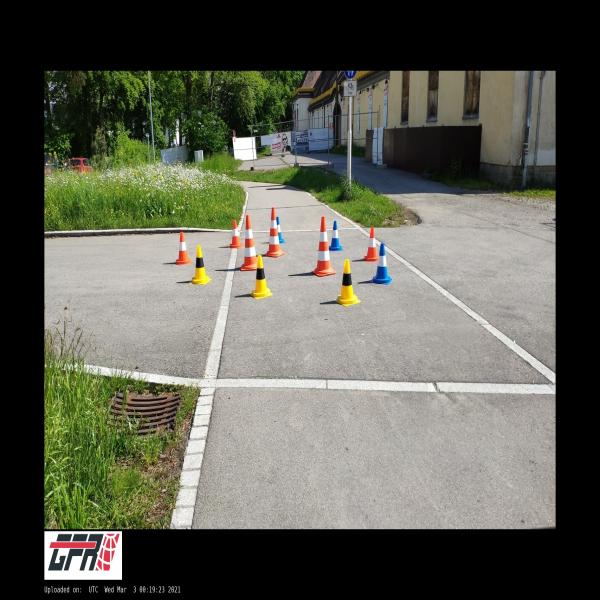blue_cone: (371, 243, 392, 285), (329, 220, 343, 251), (276, 216, 285, 244)
large_orange_cone: (312, 216, 336, 276), (264, 208, 285, 258), (241, 215, 256, 270)
orange_cone: (175, 232, 193, 265), (363, 227, 379, 262), (229, 220, 243, 248)
yellow_cone: (334, 259, 361, 306), (250, 254, 272, 298), (190, 246, 212, 284)
